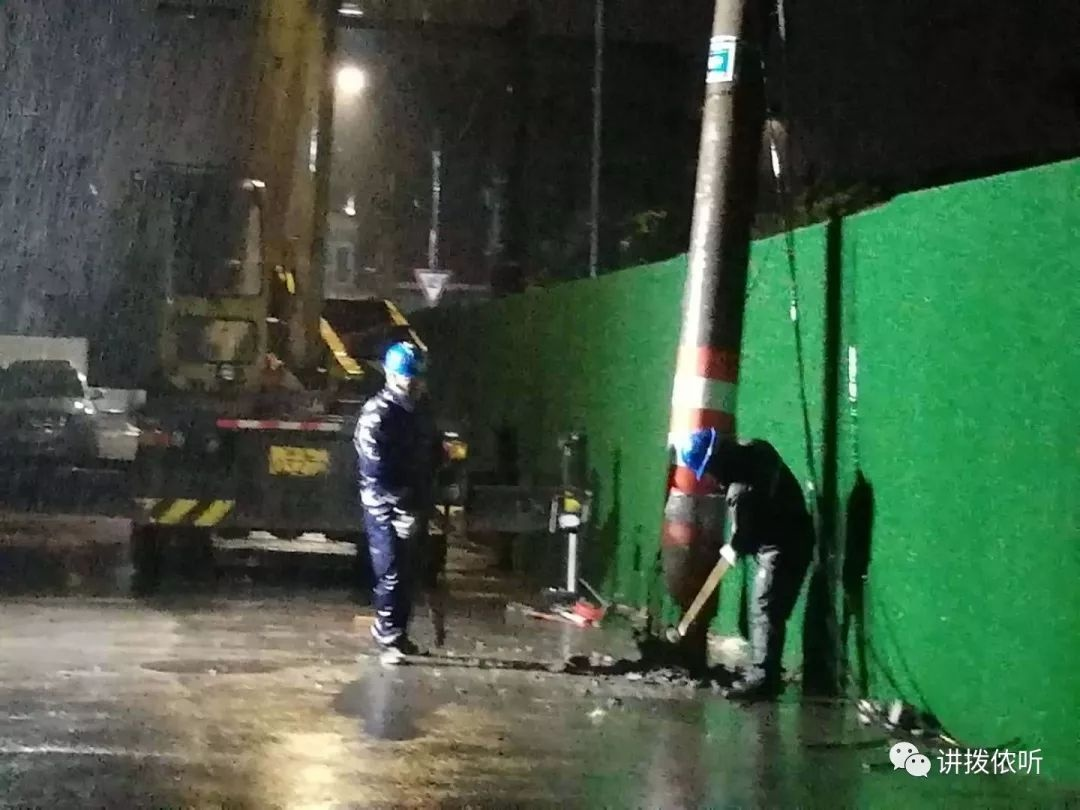blue: (377, 343, 428, 398), (681, 420, 726, 476)
